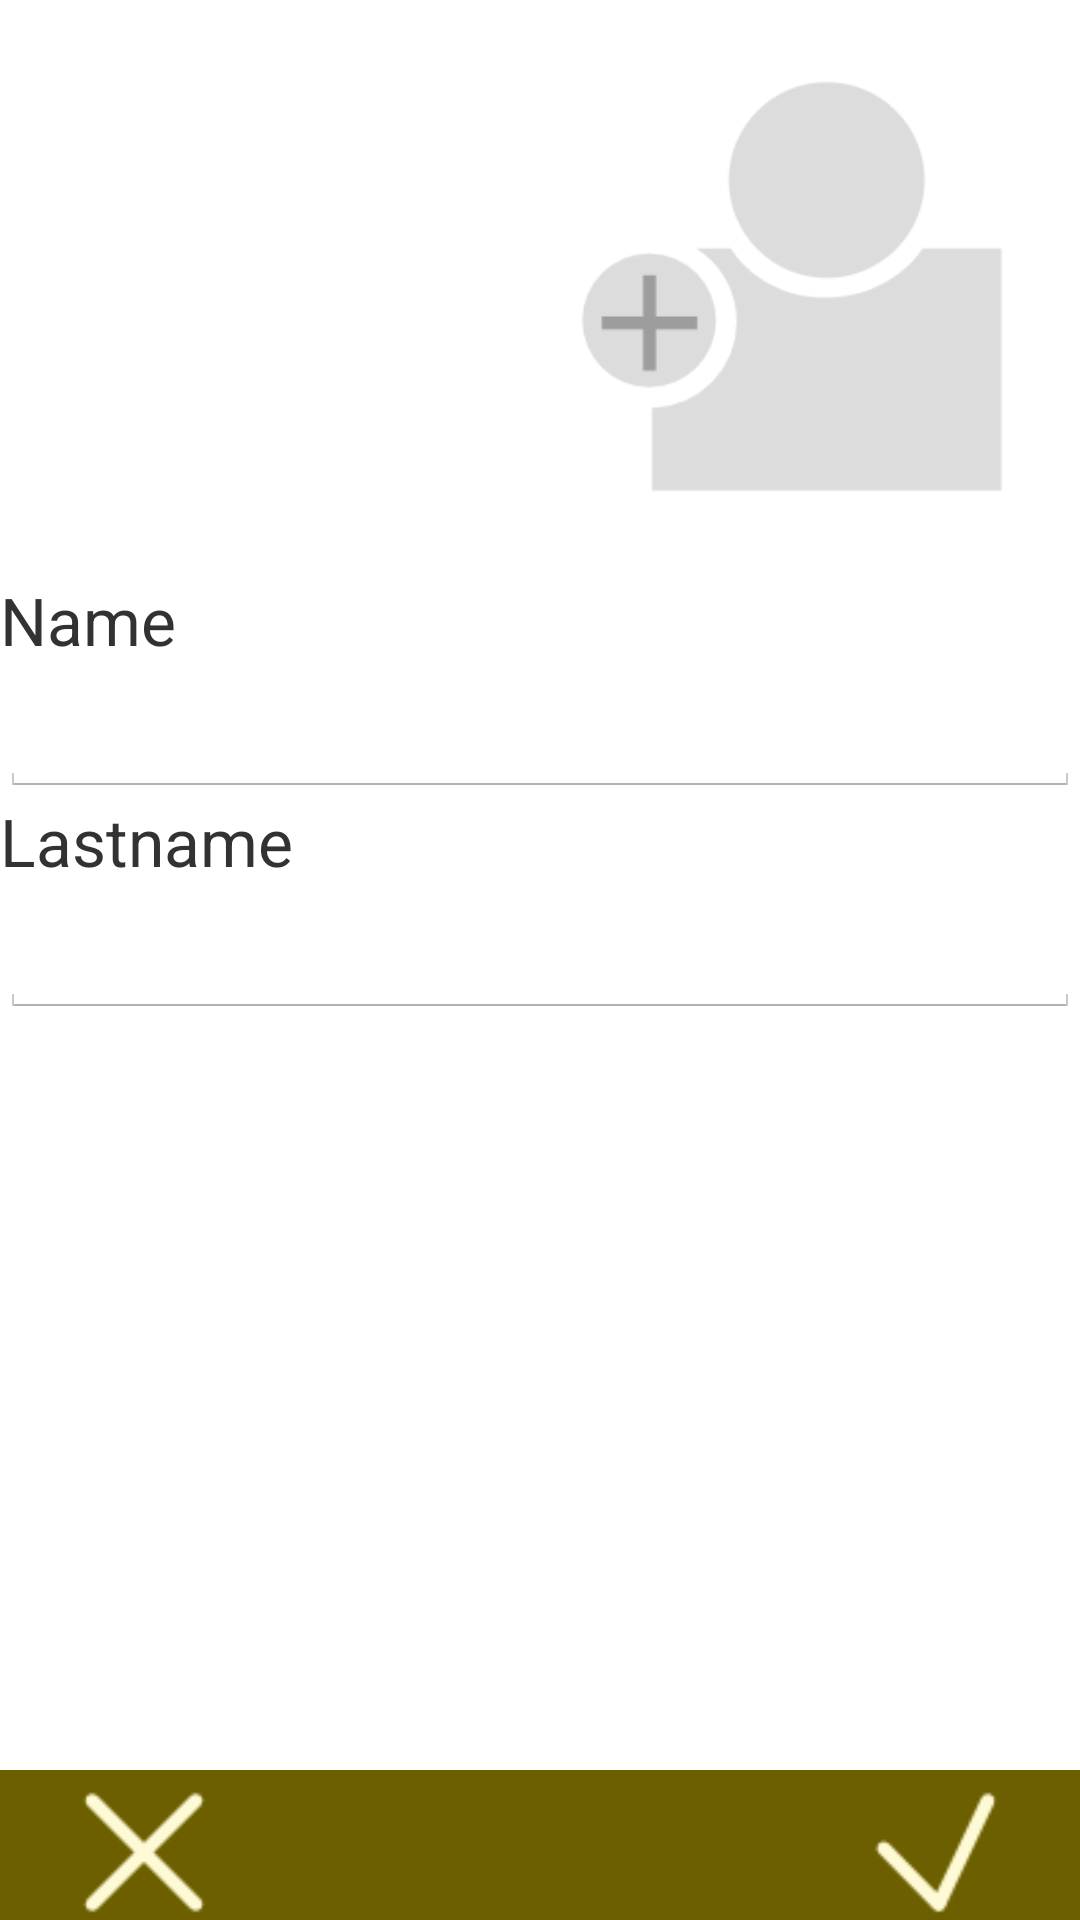

Locate icon controls on the screen. Image size 1080x1920, boxes as [left=x1, top=y1, right=x2, bottom=y2].
cancel: [left=83, top=1792, right=204, bottom=1912]
